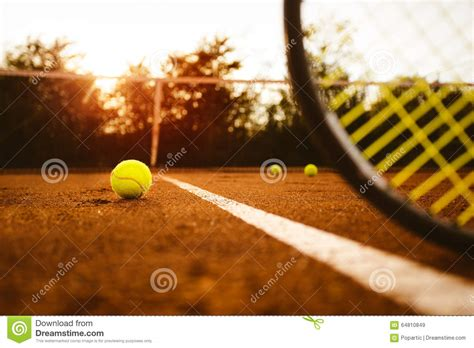tennis_ball: (110, 159, 153, 199), (304, 163, 318, 177), (270, 164, 282, 176)
